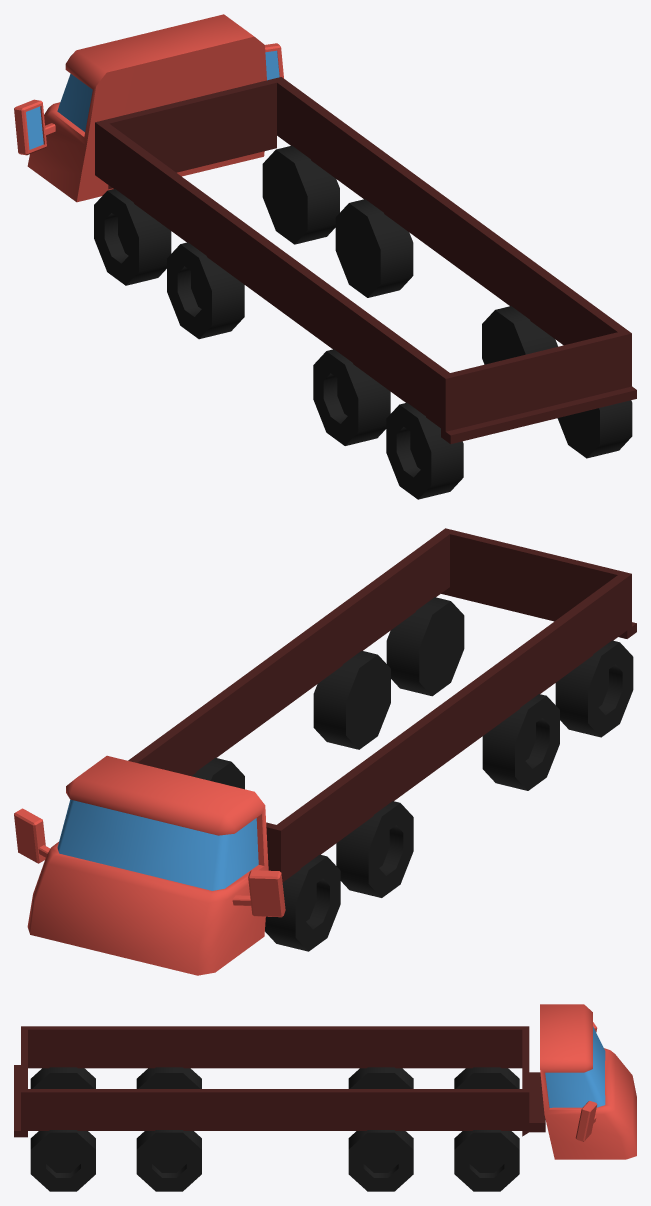
The model's file is Camion.fbx.
The picture shows the model from 3 angles, top to bottom: view 1: azimuth 30°, elevation 25°; view 2: azimuth 150°, elevation 25°; view 3: azimuth 270°, elevation 25°; orthographic projection. The views are drawn at different scales.
Parts seen in each view (by area): view 1: BottomTop, Head, Wheels_L, Left, Right, Wheels_R; view 2: Head, Left, Wheels_L, Right, Wheels_R, BottomTop; view 3: Left, Right, Wheels_R, Head, Wheels_L, BottomTop.
Part boxes in pixels (box(x1,y1,x2,y2)): BottomTop: box(95, 77, 636, 444); Head: box(14, 14, 283, 202); Wheels_L: box(94, 189, 463, 499); Left: box(100, 123, 449, 427); Right: box(277, 80, 626, 345); Wheels_R: box(262, 145, 632, 458); Head: box(14, 755, 285, 975); Left: box(277, 575, 627, 879); Wheels_L: box(265, 640, 633, 951); Right: box(128, 532, 449, 776); Wheels_R: box(192, 597, 464, 789); BottomTop: box(266, 528, 636, 882); Left: box(28, 1026, 522, 1068); Right: box(28, 1089, 522, 1130); Wheels_R: box(30, 1130, 519, 1191); Head: box(540, 1004, 636, 1159); Wheels_L: box(30, 1067, 519, 1088); BottomTop: box(14, 1026, 545, 1137).
Bounding box in the file's own units: 6.29 × 3.92 × 17.65.
